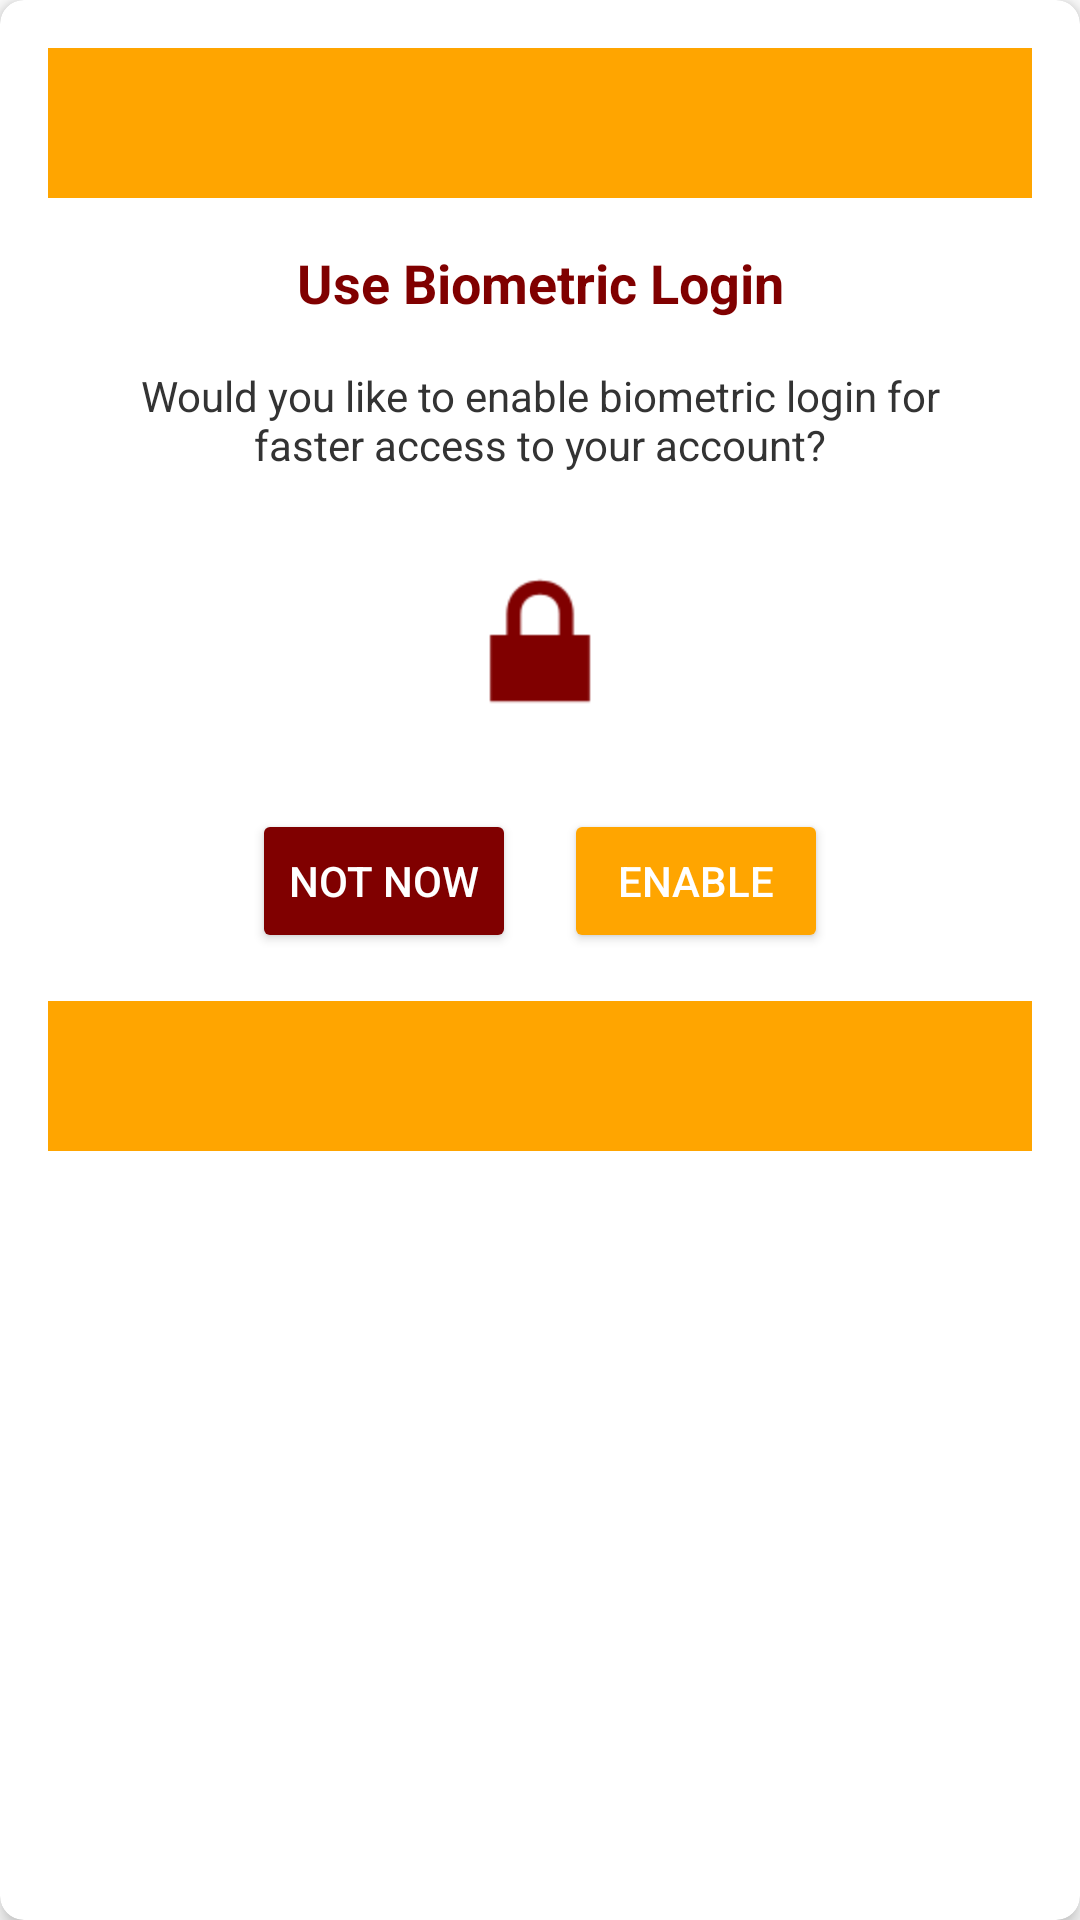

Point at icon controls on the screen. Image size 1080px x 1920px, points as (x,y).
lock: (540,641)
